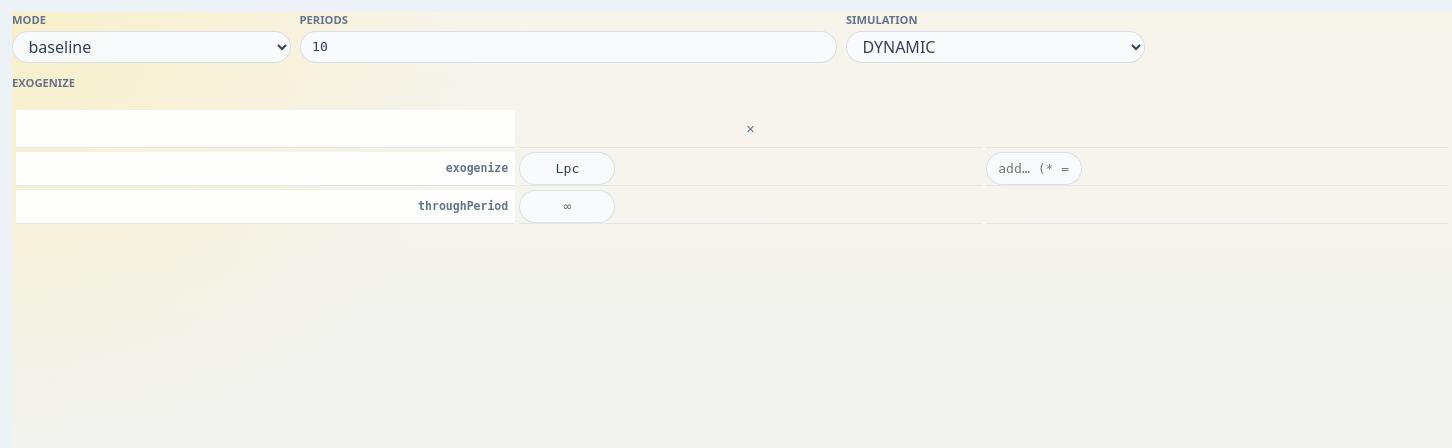
RunSourceEditor › keeps the table after adding an item (controlled round-trip)
In the field named "Add exogenize variable": (1034, 168) x1=986 y1=152 x2=1082 y2=185, type "rstar"
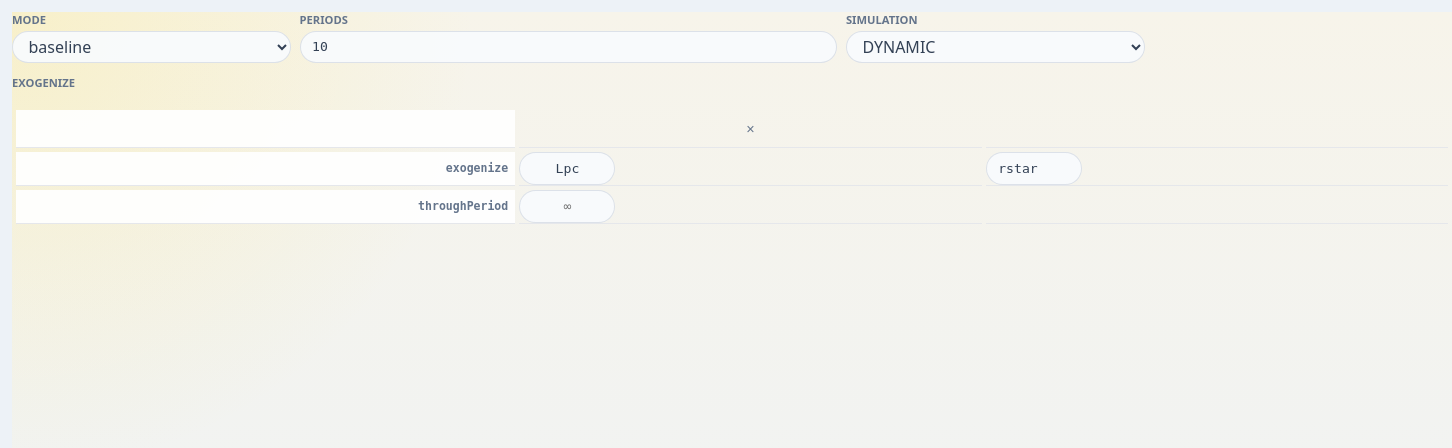
Press Enter in the field named "Add exogenize variable", box x1=986 y1=152 x2=1082 y2=185
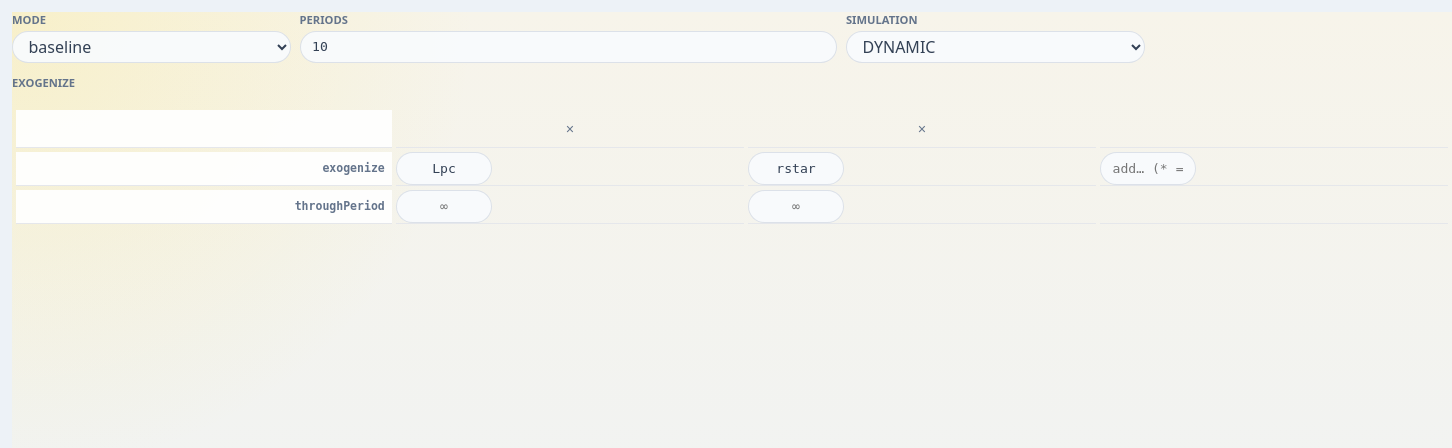
Check: the field named "Exogenize variable 1" holds "Lpc", box x1=396 y1=152 x2=492 y2=185
Check: the field named "Exogenize variable 2" holds "rstar", box x1=748 y1=152 x2=844 y2=185
